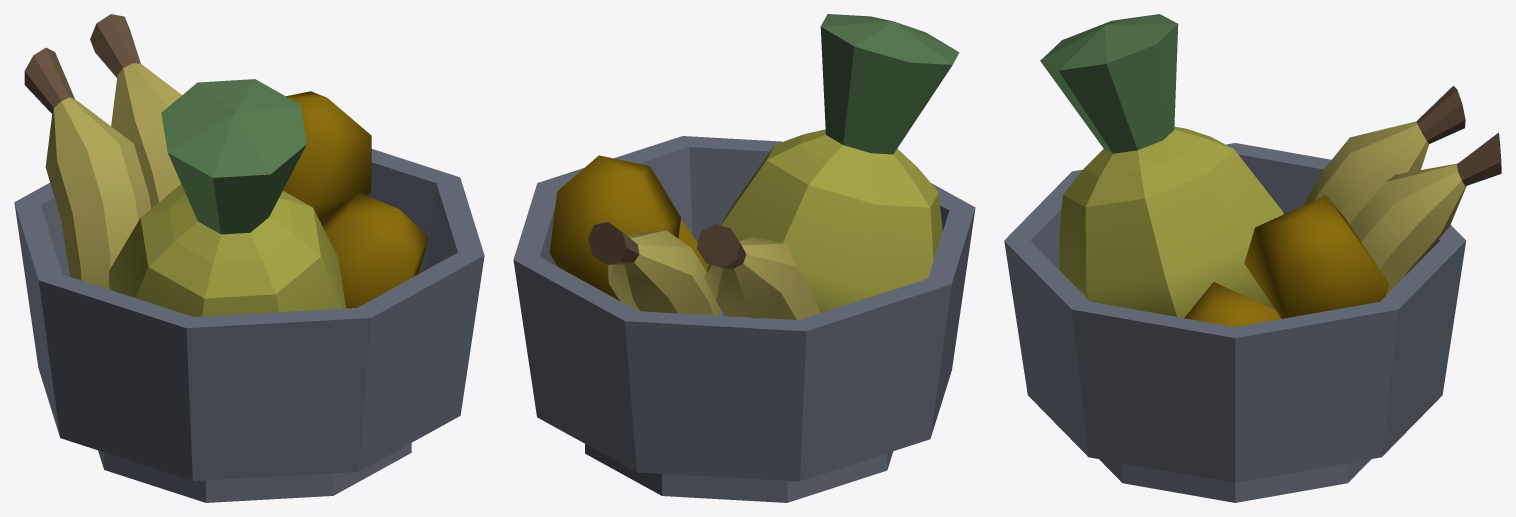
The model's file is FruitBowl_Kitchen_01.fbx.
3 views of the same model, side by side, from view 1: azimuth 30°, elevation 25°; view 2: azimuth 150°, elevation 25°; view 3: azimuth 270°, elevation 25° (orthographic). The views are drawn at different scales.
Visible parts, largest first — view 1: Fruit_Bowl_01, Pineapple_01, Banan_02, Orang_01, Banan_01, Orang_02; view 2: Fruit_Bowl_01, Pineapple_01, Orang_02, Banan_01, Banan_02; view 3: Fruit_Bowl_01, Pineapple_01, Orang_02, Banan_01, Banan_02, Orang_01.
Boxes of the visible parts, x1,y1,x2,y2 form: Fruit_Bowl_01: (14,149,484,502); Pineapple_01: (108,79,346,316); Banan_02: (24,47,150,289); Orang_01: (321,192,428,308); Banan_01: (90,14,181,208); Orang_02: (283,91,371,223); Fruit_Bowl_01: (513,136,975,502); Pineapple_01: (707,14,959,315); Orang_02: (549,155,680,300); Banan_01: (588,222,720,315); Banan_02: (697,224,820,320); Fruit_Bowl_01: (1004,143,1466,502); Pineapple_01: (1040,14,1283,317); Orang_02: (1244,195,1389,318); Banan_01: (1350,132,1501,295); Banan_02: (1303,86,1465,224); Orang_01: (1184,282,1281,326).
Size of the model in its own units: 1.57 by 1.41 by 1.7.
